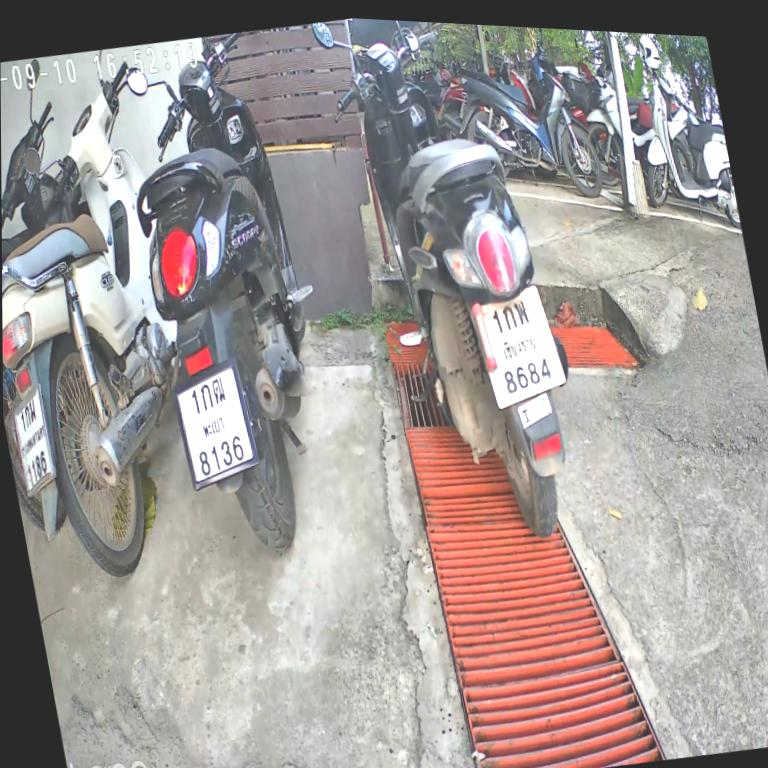license plate: (457, 263, 576, 421), (160, 347, 264, 504), (3, 380, 66, 504)
